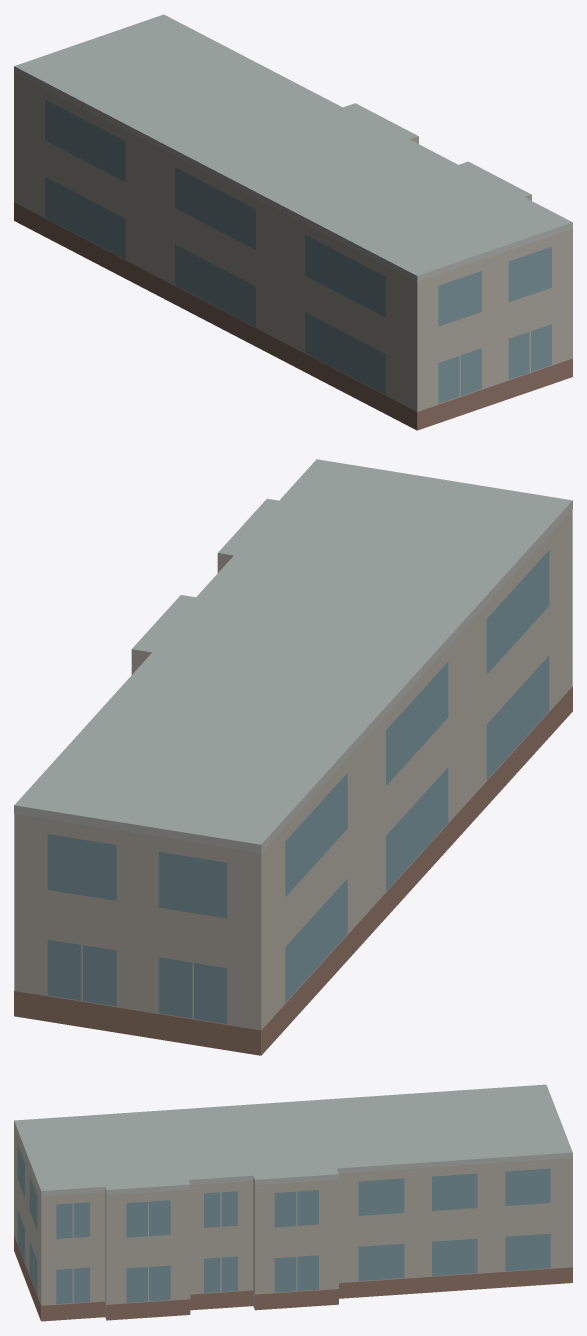
The model's file is survey-upis-32706524.glb.
3 views of the same model, one above another, from view 1: azimuth 30°, elevation 25°; view 2: azimuth 150°, elevation 25°; view 3: azimuth 270°, elevation 25° (orthographic). The views are drawn at different scales.
Visible parts, largest first — view 1: survey-upis-32706524.tmp; view 2: survey-upis-32706524.tmp; view 3: survey-upis-32706524.tmp.
Boxes of the visible parts, x1,y1,x2,y2 form: survey-upis-32706524.tmp: (14, 14, 572, 430); survey-upis-32706524.tmp: (14, 459, 572, 1055); survey-upis-32706524.tmp: (14, 1084, 572, 1321).
Bounding box in the file's own units: 10.71 × 6.1 × 23.71.
